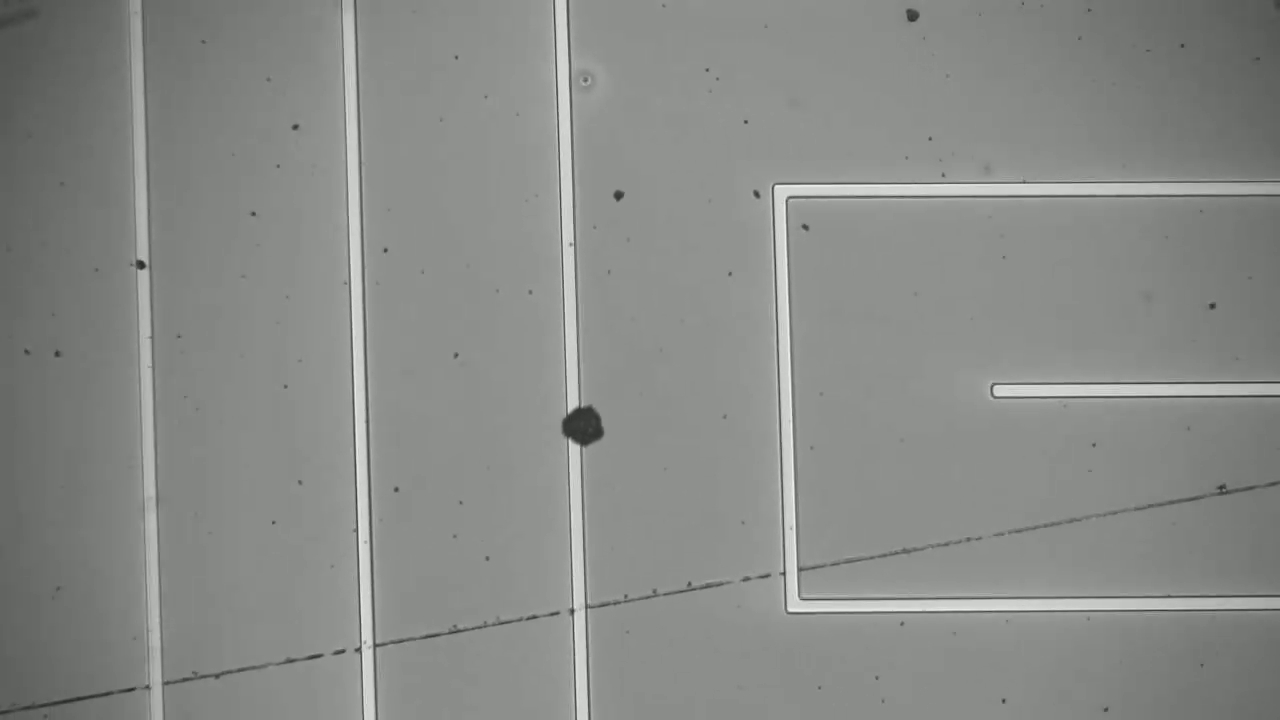scratch: (1, 486, 1271, 720)
stains_enbedded: (537, 381, 631, 469), (117, 244, 171, 284)
